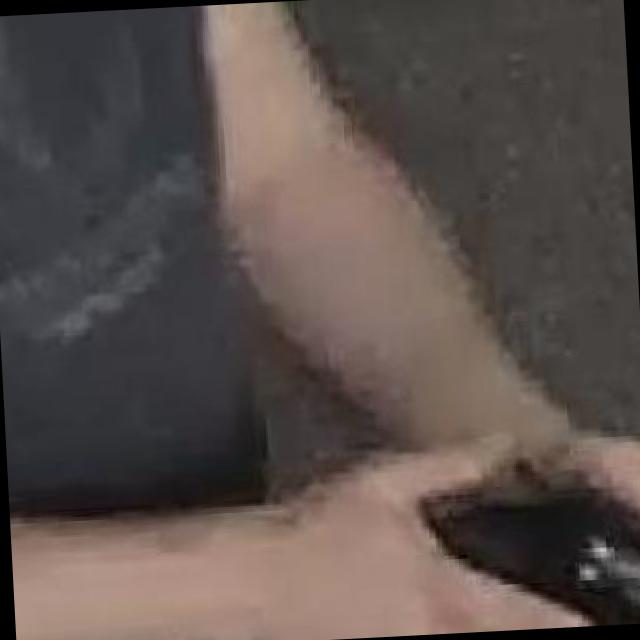Guns: (385, 407, 640, 636)
